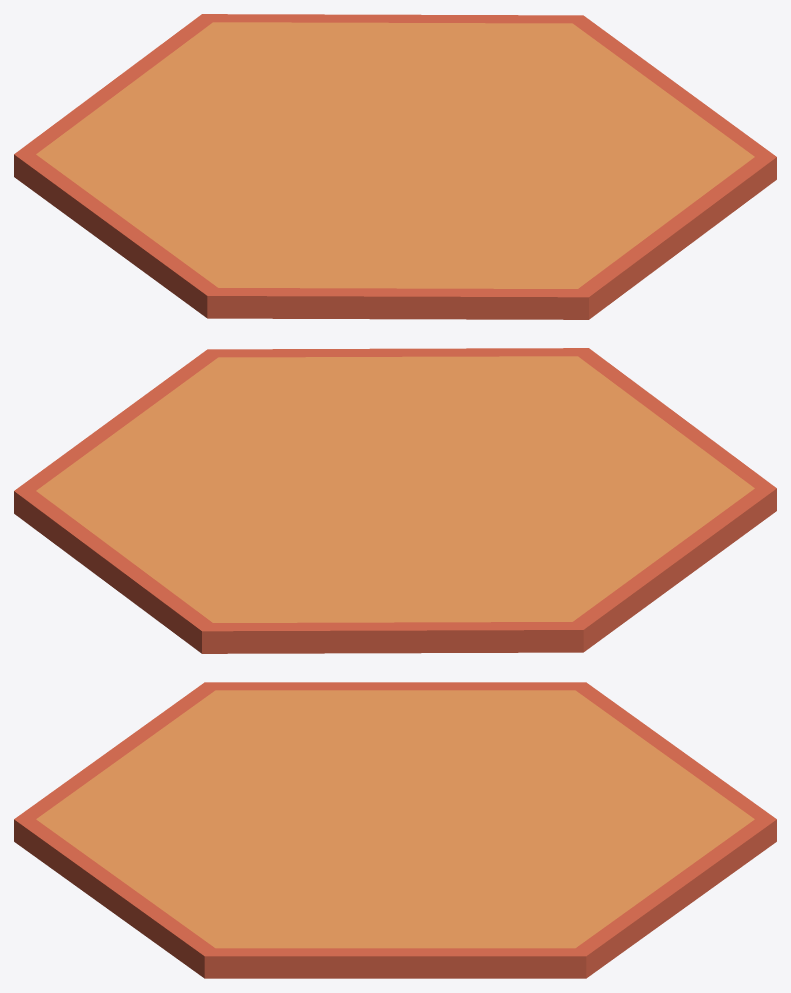
Rendered from platHexagonal.fbx.
3 views of the same model, one above another, from view 1: azimuth 30°, elevation 25°; view 2: azimuth 150°, elevation 25°; view 3: azimuth 270°, elevation 25° (orthographic).
Parts seen in each view (by area): view 1: platHexagonal; view 2: platHexagonal; view 3: platHexagonal.
Part boxes in pixels (bbox=[...]): platHexagonal: bbox=[14, 14, 776, 319]; platHexagonal: bbox=[14, 348, 776, 653]; platHexagonal: bbox=[14, 682, 776, 978].
Bounding box in the file's own units: 469 × 33.88 × 552.
